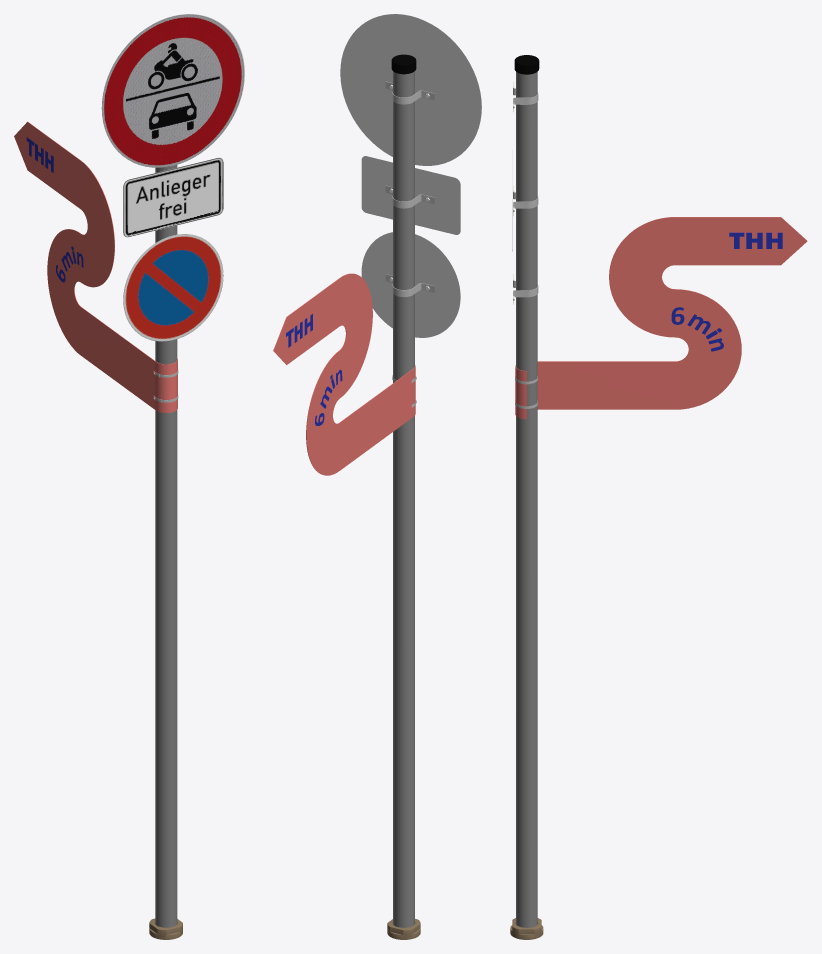
3 views of the same model, side by side, from view 1: azimuth 30°, elevation 25°; view 2: azimuth 150°, elevation 25°; view 3: azimuth 270°, elevation 25° (orthographic).
Parts seen in each view (by area): view 1: VS260, Schlangenschild, Pfosten, VZ286, NR102, Überwurf; view 2: Pfosten, VS260, Schlangenschild, VZ286, NR102, Schelle, Überwurf; view 3: Schlangenschild, Pfosten, Schelle.
Part boxes in pixels (x1=…): VS260: x1=101, y1=14, x2=244, y2=167; Schlangenschild: x1=14, y1=121, x2=177, y2=412; Pfosten: x1=155, y1=165, x2=177, y2=927; VZ286: x1=123, y1=234, x2=223, y2=341; NR102: x1=123, y1=157, x2=223, y2=237; Überwurf: x1=149, y1=918, x2=182, y2=939; Pfosten: x1=391, y1=54, x2=416, y2=927; VS260: x1=340, y1=14, x2=481, y2=165; Schlangenschild: x1=273, y1=273, x2=415, y2=475; VZ286: x1=361, y1=232, x2=460, y2=337; NR102: x1=361, y1=156, x2=460, y2=234; Schelle: x1=385, y1=81, x2=434, y2=296; Überwurf: x1=387, y1=919, x2=420, y2=939; Schlangenschild: x1=515, y1=217, x2=807, y2=419; Pfosten: x1=514, y1=55, x2=539, y2=927; Schelle: x1=513, y1=82, x2=538, y2=304.
Bounding box in the file's own units: 0.6 × 3.7 × 1.09.
Materials: 11 (3 with a texture image).
